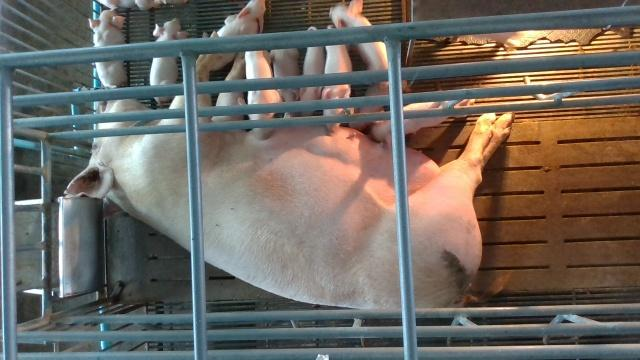piglet: (367, 99, 475, 151), (331, 0, 388, 86), (238, 51, 284, 139), (208, 0, 265, 71), (151, 18, 188, 103), (88, 9, 128, 87), (322, 44, 352, 136), (293, 46, 325, 118)
sow-sleep-lactate: (63, 30, 515, 309)
